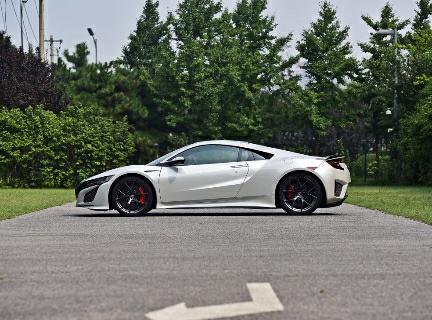讴歌-NSX: (67, 134, 354, 219)
